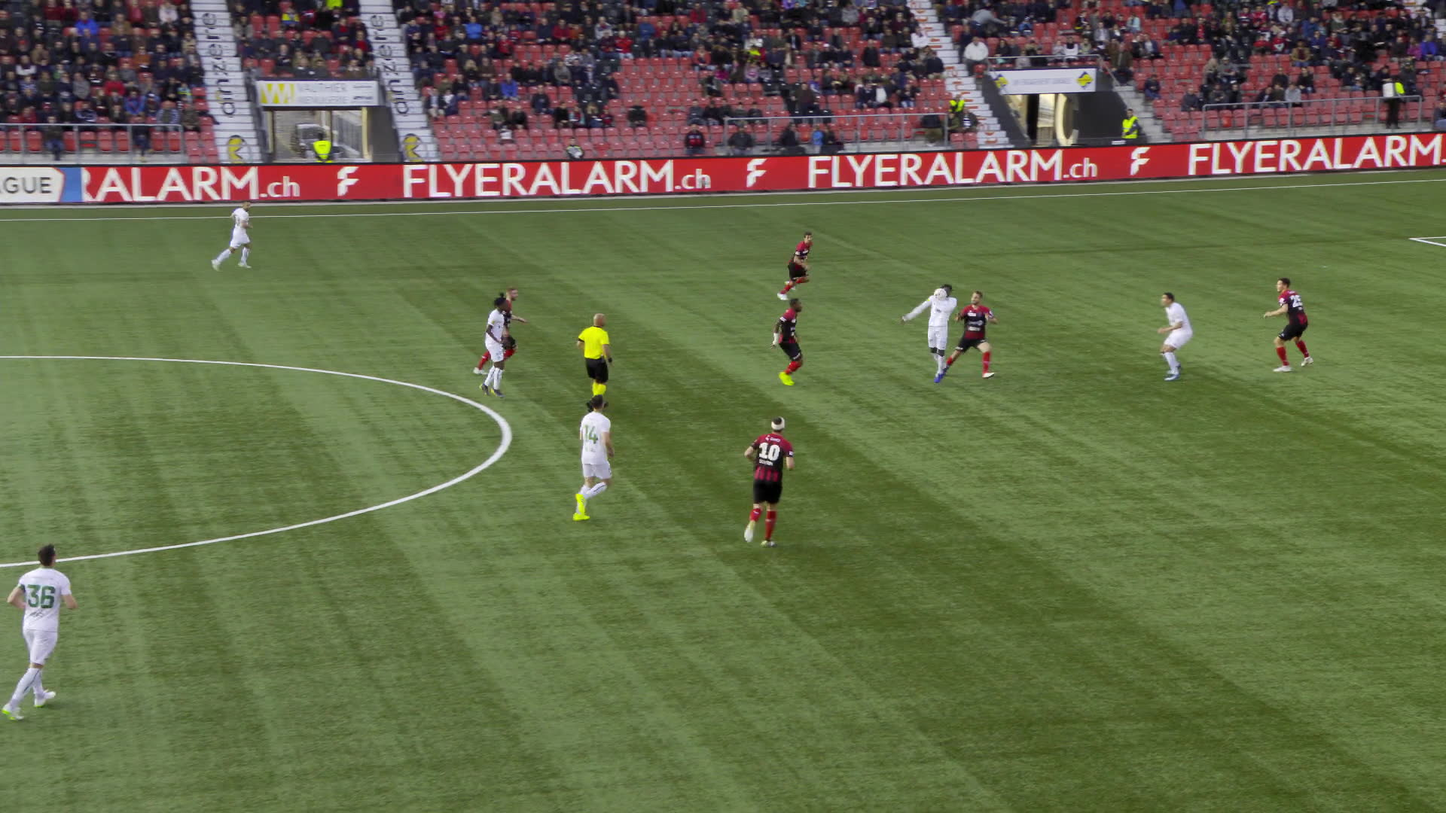ball: (927, 276, 942, 294)
player: (9, 549, 78, 718), (743, 416, 795, 557), (561, 392, 617, 519), (901, 289, 956, 385), (1260, 276, 1310, 373), (943, 289, 996, 380), (763, 299, 813, 386), (477, 297, 512, 400), (1153, 295, 1194, 382), (479, 287, 522, 367), (769, 231, 817, 300), (218, 202, 254, 273)
referee: (577, 315, 615, 414)
